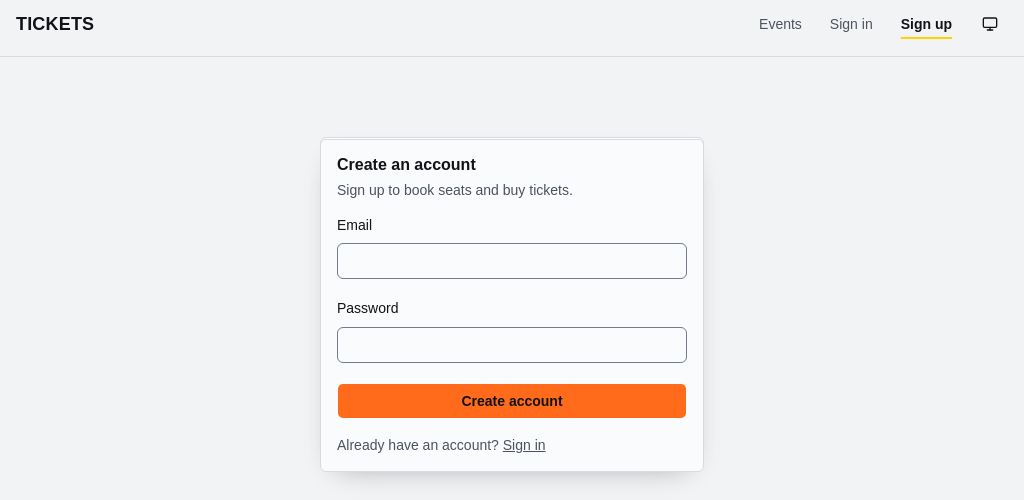
Test: RegisterPage › creates the account and opens the login with the email filled in
The width and height of the screenshot is (1024, 500).
Type "ana@mail.com" into the field labelled "Email" at x=512, y=261, box [337,243,687,279]
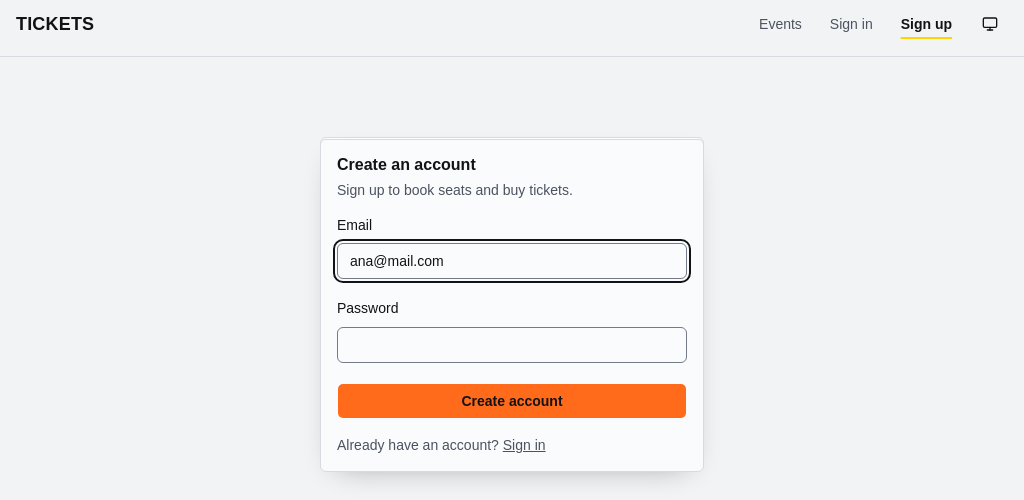
Type "secret123" into the password field labelled "Password" at x=512, y=344, box [337,326,687,362]
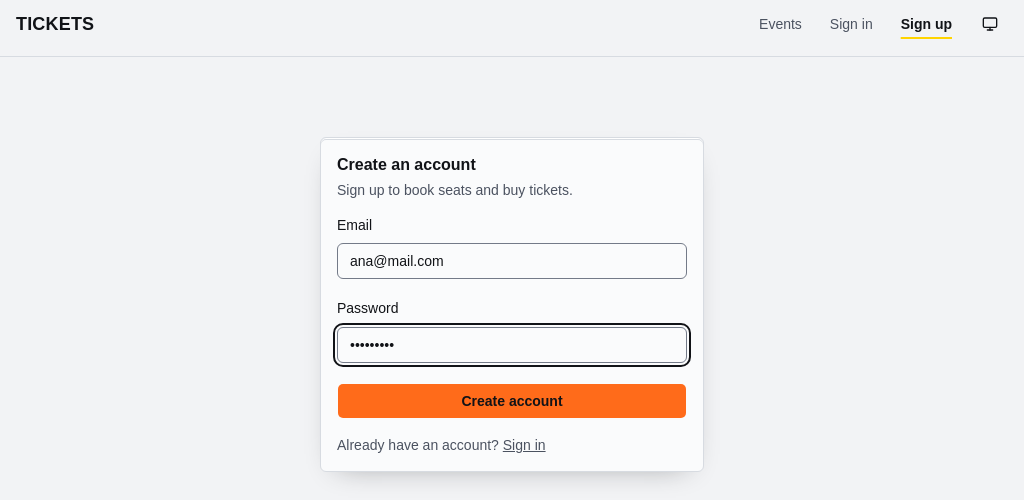
Click the button "Create account" at x=512, y=400, box [337,382,687,418]
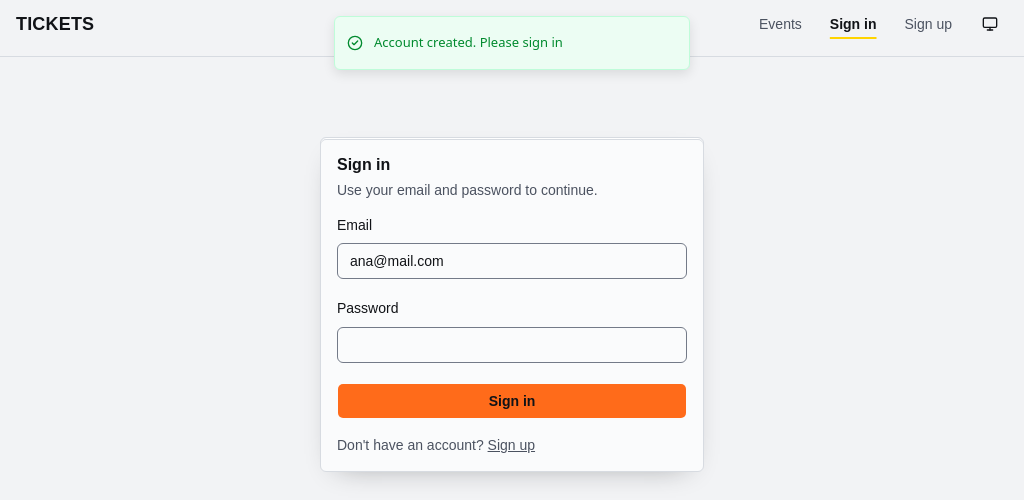
Expected: the field labelled "Email" holds "ana@mail.com", [337,243,687,279]
Expected: the text "Account created. Please sign in" is shown, [374,33,563,52]
